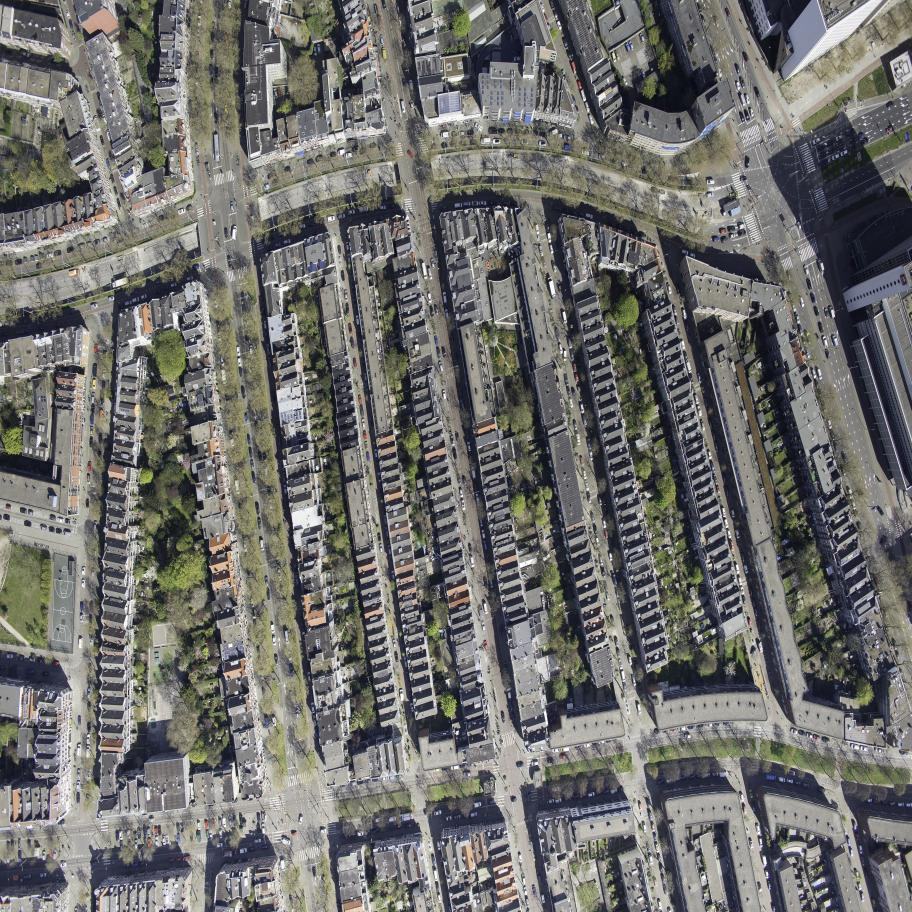large-vehicle: (548, 280, 557, 300), (398, 812, 414, 822), (92, 115, 101, 132), (421, 262, 428, 280), (68, 268, 81, 277), (765, 774, 777, 781), (442, 292, 448, 304), (428, 267, 433, 280), (90, 303, 99, 309), (388, 816, 397, 822), (108, 296, 115, 302), (428, 293, 432, 303)
small-vehicle: (818, 157, 830, 167), (565, 47, 573, 62), (879, 536, 889, 548), (739, 93, 747, 107), (473, 122, 484, 132), (828, 306, 836, 319), (580, 89, 588, 102), (685, 361, 693, 374), (817, 259, 825, 272), (234, 480, 241, 494), (742, 51, 750, 63), (832, 334, 839, 347), (816, 368, 823, 381), (571, 61, 578, 74), (696, 1, 703, 14), (483, 600, 489, 615), (221, 369, 227, 384), (314, 155, 325, 163), (552, 204, 563, 212), (587, 114, 595, 125), (618, 160, 629, 168), (829, 429, 837, 440), (794, 312, 801, 324), (400, 100, 406, 114), (584, 101, 591, 113), (744, 110, 751, 122), (709, 45, 716, 57), (693, 393, 700, 405), (754, 86, 761, 98), (711, 430, 718, 442), (696, 405, 703, 417), (735, 64, 742, 76), (757, 641, 764, 653), (803, 264, 810, 276), (549, 128, 559, 136), (650, 186, 660, 194), (117, 302, 127, 310), (213, 295, 218, 311), (860, 138, 870, 146), (834, 134, 844, 142), (835, 142, 845, 150), (839, 149, 849, 157), (811, 137, 821, 145), (845, 128, 855, 136), (877, 506, 885, 516), (177, 208, 187, 216), (106, 129, 112, 142), (255, 503, 261, 516), (280, 859, 286, 872), (227, 256, 233, 269), (562, 311, 568, 324), (620, 670, 626, 683), (806, 278, 812, 291), (508, 29, 515, 40), (358, 206, 369, 213), (739, 112, 746, 123), (688, 373, 695, 384), (725, 7, 732, 18), (750, 646, 757, 657), (820, 399, 827, 410), (847, 488, 854, 499), (854, 869, 861, 880), (71, 30, 77, 42), (805, 347, 811, 359), (277, 569, 283, 581), (288, 528, 294, 540), (282, 838, 291, 846), (259, 539, 265, 551), (264, 717, 270, 729), (818, 322, 824, 334), (266, 172, 275, 180), (124, 299, 133, 307), (270, 179, 279, 187), (358, 147, 367, 155), (436, 348, 442, 360), (470, 467, 476, 479), (478, 606, 484, 618), (551, 261, 557, 273), (538, 245, 544, 257), (697, 372, 703, 384), (682, 308, 688, 320), (600, 566, 606, 578), (586, 492, 592, 504), (612, 574, 618, 586), (676, 283, 682, 295), (710, 461, 716, 473), (729, 540, 735, 552), (740, 77, 746, 89), (738, 222, 747, 230), (762, 855, 768, 867), (852, 820, 858, 832), (576, 433, 582, 445), (586, 438, 592, 450), (185, 204, 194, 212), (799, 296, 805, 308), (831, 153, 840, 161), (284, 630, 289, 644), (25, 668, 35, 675), (232, 226, 237, 240), (352, 295, 357, 309), (556, 20, 563, 30), (640, 69, 647, 79), (748, 108, 755, 118), (452, 446, 457, 460), (886, 101, 896, 108), (850, 744, 860, 751), (859, 745, 869, 752), (848, 137, 858, 144), (102, 114, 108, 125), (98, 102, 104, 113), (96, 91, 102, 102), (798, 325, 804, 336), (811, 368, 817, 379), (271, 716, 277, 727), (379, 34, 385, 45), (438, 361, 444, 372), (430, 258, 436, 269), (563, 38, 569, 49), (558, 343, 564, 354), (459, 399, 465, 410), (456, 474, 462, 485), (483, 640, 489, 651), (508, 701, 514, 712), (822, 336, 828, 347), (611, 52, 617, 63), (700, 420, 706, 431), (717, 67, 723, 78), (603, 581, 609, 592), (584, 480, 590, 491), (745, 94, 751, 105), (663, 885, 669, 896), (724, 485, 730, 496), (737, 575, 743, 586), (708, 418, 714, 429), (714, 442, 720, 453), (648, 854, 654, 865), (758, 837, 764, 848), (755, 824, 761, 835), (827, 419, 833, 430), (814, 306, 820, 317), (751, 801, 757, 812), (840, 465, 846, 476), (860, 855, 866, 866), (860, 892, 866, 903), (77, 743, 82, 756), (246, 563, 251, 576), (262, 687, 267, 700), (399, 688, 404, 701), (556, 329, 561, 342), (262, 449, 267, 462), (407, 150, 415, 158), (678, 724, 686, 732), (63, 530, 72, 537), (90, 302, 99, 309), (66, 247, 75, 254), (89, 860, 98, 867), (14, 259, 23, 266), (337, 149, 346, 156), (53, 250, 62, 257), (440, 131, 449, 138), (239, 847, 248, 854), (554, 133, 563, 140), (473, 801, 482, 808), (453, 814, 462, 821), (622, 77, 629, 86), (615, 223, 624, 230), (440, 765, 449, 772), (450, 763, 459, 770), (581, 149, 590, 156), (738, 229, 747, 236), (720, 236, 729, 243), (885, 126, 894, 133), (790, 728, 799, 735), (817, 786, 826, 793), (849, 145, 858, 152), (827, 147, 836, 154), (818, 151, 827, 158), (131, 297, 140, 304), (99, 135, 105, 145), (243, 541, 248, 553), (98, 433, 103, 445), (78, 637, 83, 649), (257, 518, 262, 530), (271, 390, 276, 402), (825, 349, 831, 359), (242, 304, 247, 316), (241, 387, 246, 399), (290, 540, 295, 552), (280, 460, 285, 472), (298, 815, 304, 825), (312, 714, 317, 726), (305, 658, 310, 670), (282, 239, 292, 245), (373, 4, 379, 14), (376, 14, 382, 24), (395, 2, 401, 12), (450, 435, 455, 447), (357, 327, 362, 339), (359, 405, 364, 417), (361, 418, 366, 430), (415, 740, 420, 752), (431, 855, 436, 867), (439, 851, 444, 863), (433, 869, 438, 881), (239, 814, 244, 826), (553, 10, 559, 20), (481, 138, 491, 144), (461, 499, 466, 511), (501, 712, 506, 724), (541, 258, 547, 268), (577, 81, 583, 91), (615, 50, 621, 60), (625, 42, 631, 52), (700, 14, 706, 24), (684, 321, 690, 331), (649, 63, 655, 73), (604, 147, 614, 153), (521, 873, 526, 885), (525, 896, 530, 908), (629, 41, 635, 51), (639, 33, 645, 43), (597, 496, 603, 506), (571, 94, 577, 104), (667, 283, 672, 295), (714, 17, 720, 27), (661, 875, 667, 885), (721, 507, 727, 517), (743, 564, 749, 574), (735, 81, 741, 91), (574, 105, 580, 115), (197, 831, 202, 843), (833, 442, 839, 452), (739, 792, 745, 802), (843, 453, 849, 463), (875, 577, 880, 589), (220, 355, 225, 367), (569, 397, 574, 409), (810, 293, 816, 303), (35, 263, 43, 270), (248, 846, 256, 853), (364, 829, 372, 836), (608, 220, 616, 227), (639, 232, 647, 239), (383, 47, 387, 61), (258, 448, 262, 462), (858, 132, 866, 139), (186, 275, 194, 282), (163, 284, 171, 291), (289, 665, 294, 676), (97, 446, 102, 457), (274, 655, 279, 666), (248, 448, 253, 459), (263, 465, 268, 476), (268, 499, 273, 510), (250, 460, 255, 471), (243, 317, 248, 328), (261, 305, 266, 316), (264, 576, 269, 587), (295, 574, 300, 585), (283, 484, 288, 495), (241, 529, 246, 540), (266, 589, 271, 600), (307, 671, 312, 682), (311, 702, 316, 713), (257, 657, 262, 668), (315, 739, 320, 750), (409, 79, 414, 90), (398, 16, 403, 27), (345, 303, 350, 314), (350, 337, 355, 348), (442, 348, 447, 359), (348, 323, 353, 334), (453, 351, 458, 362), (377, 472, 382, 483), (383, 514, 388, 525), (387, 544, 392, 555), (394, 652, 399, 663), (400, 637, 405, 648), (403, 656, 408, 667), (405, 669, 410, 680), (407, 681, 412, 692), (408, 692, 413, 703), (410, 702, 415, 713), (435, 882, 440, 893), (564, 375, 569, 386), (467, 441, 472, 452), (568, 338, 573, 349), (470, 557, 475, 568), (479, 516, 484, 527), (507, 688, 512, 699), (535, 224, 540, 235), (637, 703, 642, 714), (599, 555, 604, 566), (618, 659, 623, 670), (589, 450, 594, 461), (366, 451, 371, 462), (655, 843, 660, 854), (724, 518, 729, 529), (642, 822, 647, 833), (893, 639, 898, 650), (749, 788, 754, 799), (137, 828, 142, 839), (580, 403, 585, 414), (582, 415, 587, 426), (573, 420, 578, 431), (680, 339, 685, 350), (757, 618, 762, 629), (224, 228, 229, 239), (864, 868, 869, 879), (116, 198, 121, 209), (48, 515, 57, 521), (39, 525, 48, 531), (77, 244, 86, 250), (23, 521, 32, 527), (16, 329, 25, 335), (307, 221, 316, 227), (278, 230, 287, 236), (371, 828, 380, 834), (347, 209, 356, 215), (512, 50, 521, 56), (543, 14, 549, 23), (562, 145, 571, 151), (566, 387, 572, 396), (454, 203, 463, 209), (713, 57, 719, 66), (667, 176, 676, 182), (630, 229, 639, 235), (569, 209, 578, 215), (65, 10, 71, 19), (561, 745, 570, 751), (594, 790, 603, 796), (680, 249, 689, 255), (764, 870, 770, 879), (706, 179, 715, 185), (812, 735, 821, 741), (822, 738, 831, 744), (826, 140, 835, 146), (817, 145, 826, 151), (785, 778, 794, 784), (814, 380, 820, 389), (817, 388, 823, 397), (851, 501, 857, 510), (192, 264, 201, 270), (154, 288, 163, 294), (871, 898, 877, 907), (115, 241, 124, 247), (93, 364, 97, 377), (88, 626, 92, 639), (267, 482, 271, 495), (68, 19, 73, 29), (76, 14, 81, 24), (302, 631, 307, 641), (89, 426, 94, 436), (113, 186, 118, 196), (110, 174, 115, 184), (73, 4, 78, 14), (6, 854, 11, 864), (272, 636, 277, 646), (270, 624, 275, 634), (273, 88, 278, 98), (314, 727, 319, 737), (293, 564, 298, 574), (236, 346, 241, 356), (312, 867, 317, 877), (289, 896, 294, 906), (337, 245, 342, 255), (340, 271, 345, 281), (355, 315, 360, 325), (430, 307, 435, 317), (391, 570, 396, 580), (379, 484, 384, 494), (442, 390, 447, 400), (392, 639, 397, 649), (436, 841, 441, 851), (228, 816, 233, 826), (437, 893, 442, 903), (458, 387, 463, 397), (483, 540, 488, 550), (475, 494, 480, 504), (481, 529, 486, 539), (468, 543, 473, 553), (547, 233, 552, 243), (683, 351, 688, 361), (704, 398, 709, 408), (614, 637, 619, 647), (610, 616, 615, 626), (628, 656, 633, 666), (582, 470, 587, 480), (532, 886, 537, 896), (518, 853, 523, 863), (523, 886, 528, 896), (593, 525, 598, 535), (590, 513, 595, 523), (602, 519, 607, 529), (653, 877, 658, 887), (658, 900, 663, 910), (659, 863, 664, 873), (735, 529, 740, 539), (741, 552, 746, 562), (735, 564, 740, 574), (707, 450, 712, 460), (646, 799, 651, 809), (648, 811, 653, 821), (646, 843, 651, 853), (787, 270, 792, 280), (749, 839, 754, 849), (189, 832, 194, 842), (204, 820, 209, 830), (218, 818, 223, 828), (767, 881, 772, 891), (570, 350, 575, 360), (217, 331, 222, 341), (855, 831, 860, 841), (574, 373, 579, 383), (672, 306, 677, 316), (849, 848, 854, 858), (858, 844, 863, 854), (55, 529, 63, 535), (92, 378, 96, 390), (22, 52, 30, 58), (68, 308, 76, 314), (36, 325, 44, 331), (48, 527, 56, 533), (100, 393, 104, 405), (91, 392, 95, 404), (19, 508, 27, 514), (93, 240, 101, 246), (86, 746, 90, 758), (52, 660, 60, 666), (101, 237, 109, 243), (3, 852, 7, 864), (252, 472, 256, 484), (46, 253, 54, 259), (6, 260, 14, 266), (266, 343, 270, 355), (306, 159, 314, 165), (230, 201, 234, 213), (263, 184, 271, 190), (284, 167, 292, 173), (317, 218, 325, 224), (327, 216, 335, 222), (266, 245, 274, 251), (304, 232, 312, 238), (329, 152, 337, 158), (450, 141, 458, 147), (388, 203, 396, 209), (342, 824, 350, 830), (434, 810, 442, 816), (376, 215, 384, 221), (348, 781, 356, 787), (450, 805, 458, 811), (344, 290, 348, 302), (466, 130, 474, 136), (458, 131, 466, 137), (465, 428, 469, 440), (563, 135, 571, 141), (522, 129, 530, 135), (530, 130, 538, 136), (484, 577, 488, 589), (463, 201, 471, 207), (488, 799, 496, 805), (510, 797, 518, 803), (470, 811, 478, 817), (554, 798, 562, 804), (552, 786, 560, 792), (598, 154, 606, 160), (585, 213, 593, 219), (623, 226, 631, 232), (564, 795, 572, 801), (552, 746, 560, 752), (610, 788, 618, 794), (602, 789, 610, 795), (580, 793, 588, 799), (657, 779, 665, 785), (572, 794, 580, 800), (728, 226, 736, 232), (712, 236, 720, 242), (794, 780, 802, 786), (706, 192, 714, 198), (746, 157, 750, 169), (720, 771, 728, 777), (875, 747, 883, 753), (801, 782, 809, 788), (688, 774, 696, 780), (788, 770, 796, 776), (778, 777, 786, 783), (214, 112, 218, 124), (211, 32, 215, 44), (155, 279, 163, 285), (140, 294, 148, 300), (130, 289, 138, 295), (155, 836, 159, 848), (157, 216, 165, 222), (166, 857, 174, 863), (287, 651, 292, 660), (106, 159, 111, 168), (237, 358, 242, 367), (254, 422, 259, 431), (754, 608, 759, 617), (463, 772, 472, 777), (299, 612, 304, 621), (300, 621, 305, 630), (295, 709, 300, 718), (240, 292, 245, 301), (351, 147, 360, 152), (358, 395, 363, 404), (364, 441, 369, 450), (434, 306, 439, 315), (377, 533, 382, 542), (489, 129, 498, 134), (455, 433, 460, 442), (345, 241, 350, 250), (538, 141, 547, 146), (462, 476, 467, 485), (481, 622, 486, 631), (549, 245, 554, 254), (545, 223, 550, 232), (632, 677, 637, 686), (605, 592, 610, 601), (615, 589, 620, 598), (616, 649, 621, 658), (595, 537, 600, 546), (541, 894, 546, 903), (605, 738, 614, 743), (716, 485, 721, 494), (731, 509, 736, 518), (740, 586, 745, 595), (742, 596, 747, 605), (749, 587, 754, 596), (727, 530, 732, 539), (722, 475, 727, 484), (574, 744, 583, 749), (638, 802, 643, 811), (824, 308, 829, 317), (742, 805, 747, 814), (847, 837, 852, 846), (752, 598, 757, 607), (857, 882, 862, 891), (53, 849, 57, 860), (87, 461, 91, 472), (76, 793, 80, 804), (77, 769, 81, 780), (87, 688, 91, 699), (265, 331, 269, 342), (245, 330, 249, 341), (304, 644, 308, 655), (282, 472, 286, 483), (285, 87, 289, 98), (362, 358, 366, 369), (385, 526, 389, 537), (347, 253, 351, 264), (499, 625, 503, 636), (223, 817, 227, 828), (194, 92, 198, 103), (216, 320, 220, 331), (195, 144, 199, 155), (197, 15, 201, 26), (195, 75, 199, 86), (57, 517, 64, 523), (86, 242, 93, 248), (3, 515, 10, 521), (21, 318, 28, 324), (40, 872, 47, 878), (262, 844, 269, 850), (254, 838, 261, 844), (291, 831, 298, 837), (270, 234, 277, 240), (313, 230, 320, 236), (357, 831, 364, 837), (540, 132, 547, 138), (460, 140, 467, 146), (563, 207, 570, 213), (495, 190, 502, 196), (526, 792, 533, 798), (433, 766, 440, 772), (588, 792, 595, 798), (729, 233, 736, 239), (806, 733, 813, 739), (170, 282, 177, 288), (183, 855, 190, 861), (94, 344, 98, 354), (50, 58, 58, 63), (91, 404, 95, 414), (90, 414, 94, 424), (89, 437, 93, 447), (86, 734, 90, 744), (93, 521, 97, 531), (57, 820, 65, 825), (18, 851, 22, 861), (23, 874, 31, 879), (247, 435, 251, 445), (313, 46, 317, 56), (317, 44, 321, 54), (240, 81, 244, 91), (268, 357, 272, 367), (288, 518, 292, 528), (310, 691, 314, 701), (240, 94, 244, 104), (252, 609, 256, 619), (87, 702, 91, 712), (387, 775, 395, 780), (410, 99, 414, 109), (345, 153, 353, 158), (353, 358, 357, 368), (370, 416, 374, 426), (434, 335, 438, 345), (404, 823, 412, 828), (450, 333, 454, 343), (424, 810, 432, 815), (257, 814, 261, 824), (351, 284, 355, 294), (505, 32, 510, 40), (470, 140, 478, 145), (563, 351, 567, 361), (521, 140, 529, 145), (459, 488, 463, 498), (474, 482, 478, 492), (531, 761, 539, 766), (479, 201, 487, 206), (471, 201, 479, 206), (609, 552, 613, 562), (459, 763, 467, 768), (538, 875, 542, 885), (714, 475, 718, 485), (651, 822, 655, 832), (208, 819, 212, 829), (212, 818, 216, 828), (209, 830, 213, 840), (197, 821, 201, 831), (758, 882, 762, 892), (900, 750, 908, 755), (896, 650, 900, 660), (210, 66, 214, 76), (224, 104, 228, 114), (225, 392, 229, 402), (119, 830, 123, 840), (195, 51, 199, 61), (210, 50, 214, 60), (210, 78, 214, 88), (675, 317, 680, 325), (157, 826, 161, 836), (162, 836, 166, 846), (143, 828, 147, 838), (127, 839, 131, 849), (90, 600, 93, 613), (101, 381, 105, 390), (91, 568, 95, 577), (87, 475, 91, 484), (76, 781, 80, 790), (42, 851, 46, 860), (18, 839, 21, 851), (249, 345, 253, 354), (239, 368, 243, 377), (511, 712, 515, 721), (244, 414, 248, 423), (263, 320, 267, 329), (277, 87, 281, 96), (451, 131, 457, 137), (364, 372, 368, 381), (365, 382, 369, 391), (363, 431, 367, 440), (376, 461, 380, 470), (379, 544, 383, 553), (396, 774, 402, 780), (87, 723, 91, 732), (490, 579, 494, 588), (701, 385, 705, 394), (623, 682, 627, 691), (580, 457, 584, 466), (653, 833, 657, 842), (697, 773, 703, 779), (180, 823, 184, 832), (176, 824, 180, 833), (195, 63, 199, 72), (127, 830, 131, 839), (195, 107, 198, 119), (176, 834, 180, 843), (573, 363, 577, 372), (572, 388, 576, 397), (748, 618, 752, 627), (147, 828, 151, 837), (219, 829, 223, 838), (154, 827, 158, 836), (134, 840, 138, 849), (27, 510, 34, 515), (64, 519, 71, 524), (54, 322, 61, 327), (5, 505, 12, 510), (2, 331, 9, 336), (18, 655, 25, 660), (37, 658, 44, 663), (60, 862, 67, 867), (320, 828, 327, 833), (299, 224, 306, 229), (369, 143, 376, 148), (441, 143, 448, 148), (395, 825, 402, 830), (380, 776, 387, 781), (372, 777, 379, 782), (357, 780, 364, 785), (498, 129, 505, 134), (514, 57, 521, 62), (493, 139, 500, 144), (487, 200, 494, 205), (511, 201, 518, 206), (547, 758, 554, 763), (548, 799, 555, 804), (467, 762, 474, 767), (6, 665, 13, 670), (598, 740, 605, 745), (665, 778, 672, 783), (670, 727, 677, 732), (689, 253, 696, 258), (706, 722, 713, 727), (688, 725, 695, 730), (216, 843, 223, 848), (720, 229, 727, 234), (741, 177, 748, 182), (798, 731, 805, 736), (881, 800, 888, 805), (889, 801, 896, 806), (897, 802, 904, 807), (873, 799, 880, 804), (132, 862, 139, 867), (124, 863, 131, 868), (7, 841, 10, 852), (241, 45, 244, 56), (278, 436, 281, 447), (262, 823, 265, 834), (257, 823, 260, 834), (88, 676, 91, 687), (215, 67, 218, 78), (120, 840, 123, 851), (403, 79, 407, 87), (374, 449, 378, 457), (445, 309, 449, 317), (495, 201, 503, 205), (657, 854, 661, 862), (516, 763, 524, 767), (102, 370, 105, 380), (28, 841, 31, 851), (43, 671, 49, 676), (11, 841, 14, 851), (560, 754, 566, 759), (241, 107, 244, 117), (431, 144, 437, 149), (446, 816, 452, 821), (618, 787, 624, 792), (685, 734, 691, 739), (866, 798, 872, 803), (704, 773, 710, 778), (712, 772, 718, 777), (116, 831, 119, 841), (175, 857, 181, 862), (149, 818, 155, 823), (138, 862, 144, 867), (24, 329, 31, 333), (37, 317, 44, 321), (503, 201, 510, 205), (584, 743, 591, 747), (698, 723, 705, 727), (82, 567, 85, 576), (82, 579, 85, 588), (80, 614, 83, 623), (80, 603, 83, 612), (89, 615, 92, 624), (241, 59, 244, 68), (241, 118, 244, 127), (242, 129, 245, 138), (78, 716, 81, 725), (86, 793, 89, 802), (89, 663, 92, 672), (206, 830, 209, 839), (212, 22, 215, 31), (197, 28, 200, 37), (166, 835, 169, 844), (7, 654, 13, 658), (29, 658, 35, 662), (86, 499, 89, 507), (275, 243, 281, 247), (365, 779, 371, 783), (380, 206, 386, 210), (507, 129, 513, 133), (515, 130, 521, 134), (654, 730, 660, 734), (605, 531, 608, 539), (579, 212, 585, 216), (715, 722, 721, 726), (147, 839, 150, 847), (724, 722, 729, 726), (241, 70, 243, 79)
